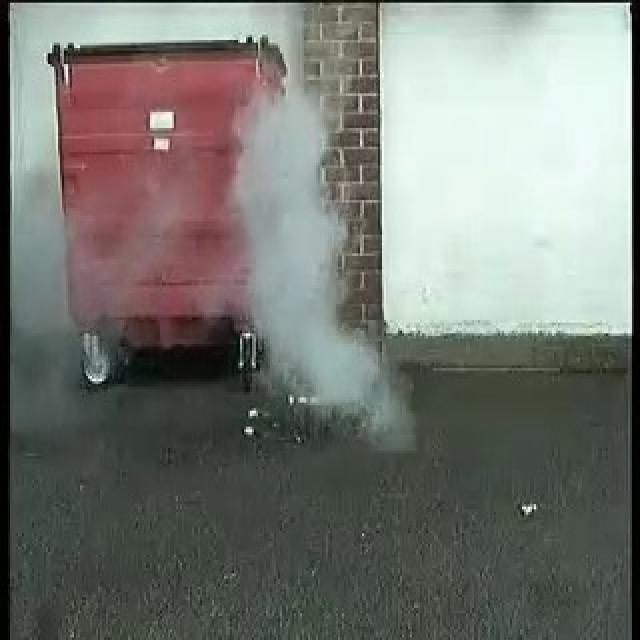smoke: (232, 98, 400, 434)
